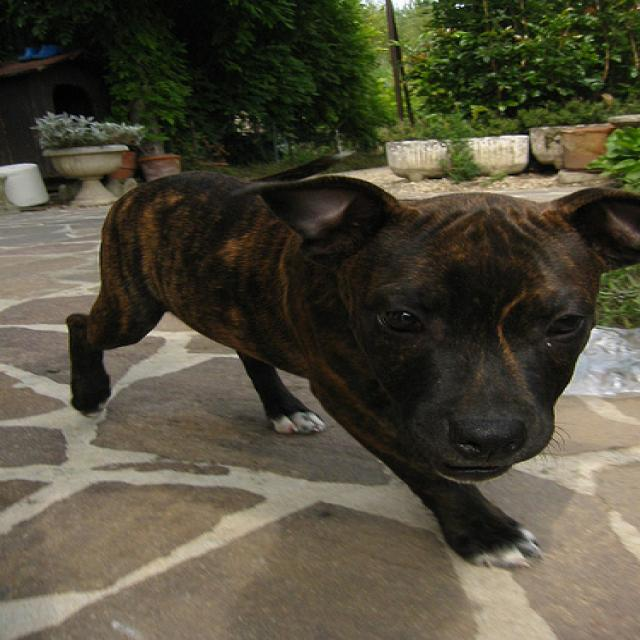dog-staffordshire_bull_terrier: (39, 157, 637, 579)
